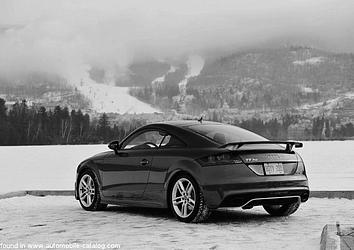car: (74, 116, 313, 225)
